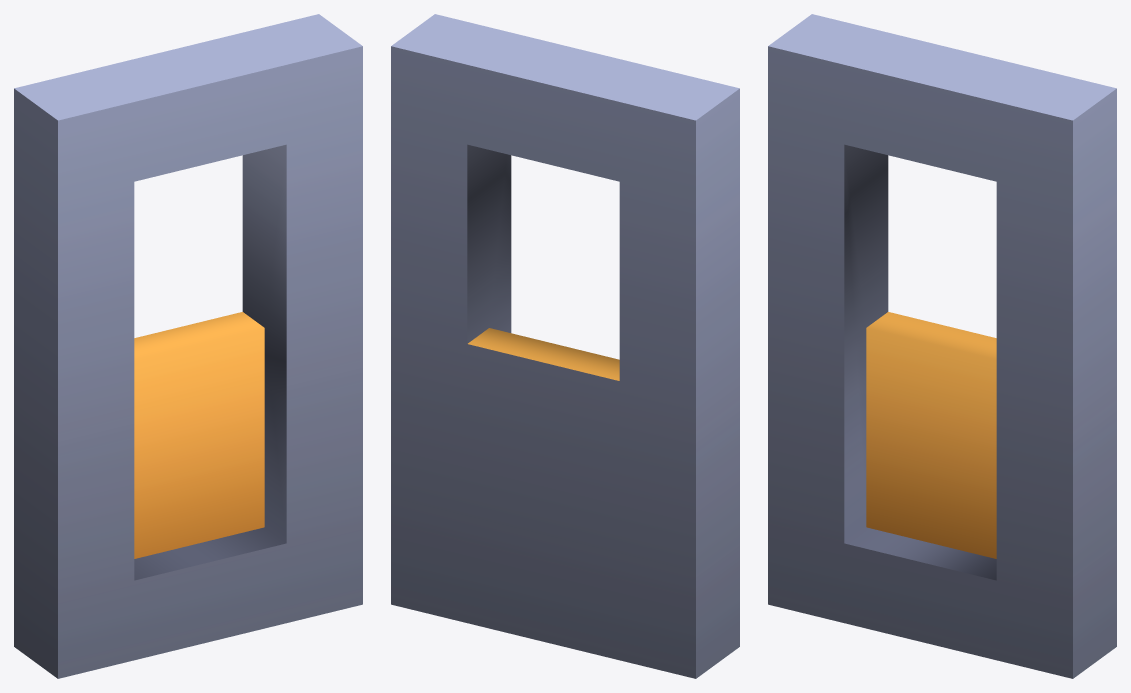
Rendered from kenney-space-station-door-single-half.glb.
The picture shows the model from 3 angles, left to right: view 1: azimuth 30°, elevation 25°; view 2: azimuth 150°, elevation 25°; view 3: azimuth 330°, elevation 25°; orthographic projection.
Visible parts, largest first — view 1: door-single-half; view 2: door-single-half; view 3: door-single-half.
Part boxes in pixels (box(x1,y1,x2,y2)): door-single-half: box(14, 14, 362, 678); door-single-half: box(391, 14, 739, 678); door-single-half: box(768, 14, 1116, 678).
Bounding box in the file's own units: 0.4 × 0.7 × 0.1.
Materials: 1 (1 with a texture image).
